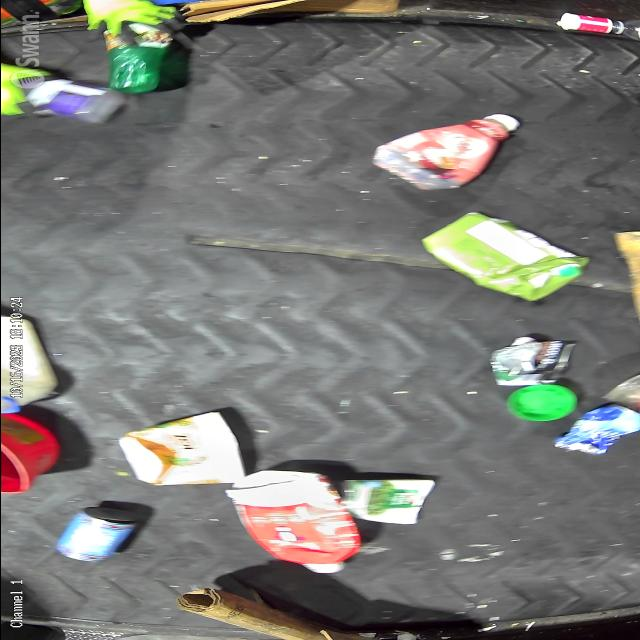can: (60, 508, 144, 562), (491, 338, 570, 387)
non_white_jug: (423, 212, 586, 300), (225, 477, 357, 569), (368, 114, 516, 192)
